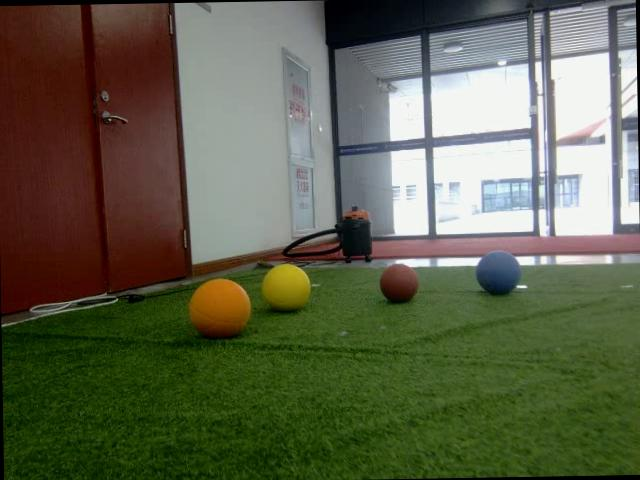blue_ball: (475, 249, 522, 295)
orange_ball: (186, 276, 254, 339)
red_ball: (379, 262, 420, 302)
yellow_ball: (260, 262, 312, 312)
